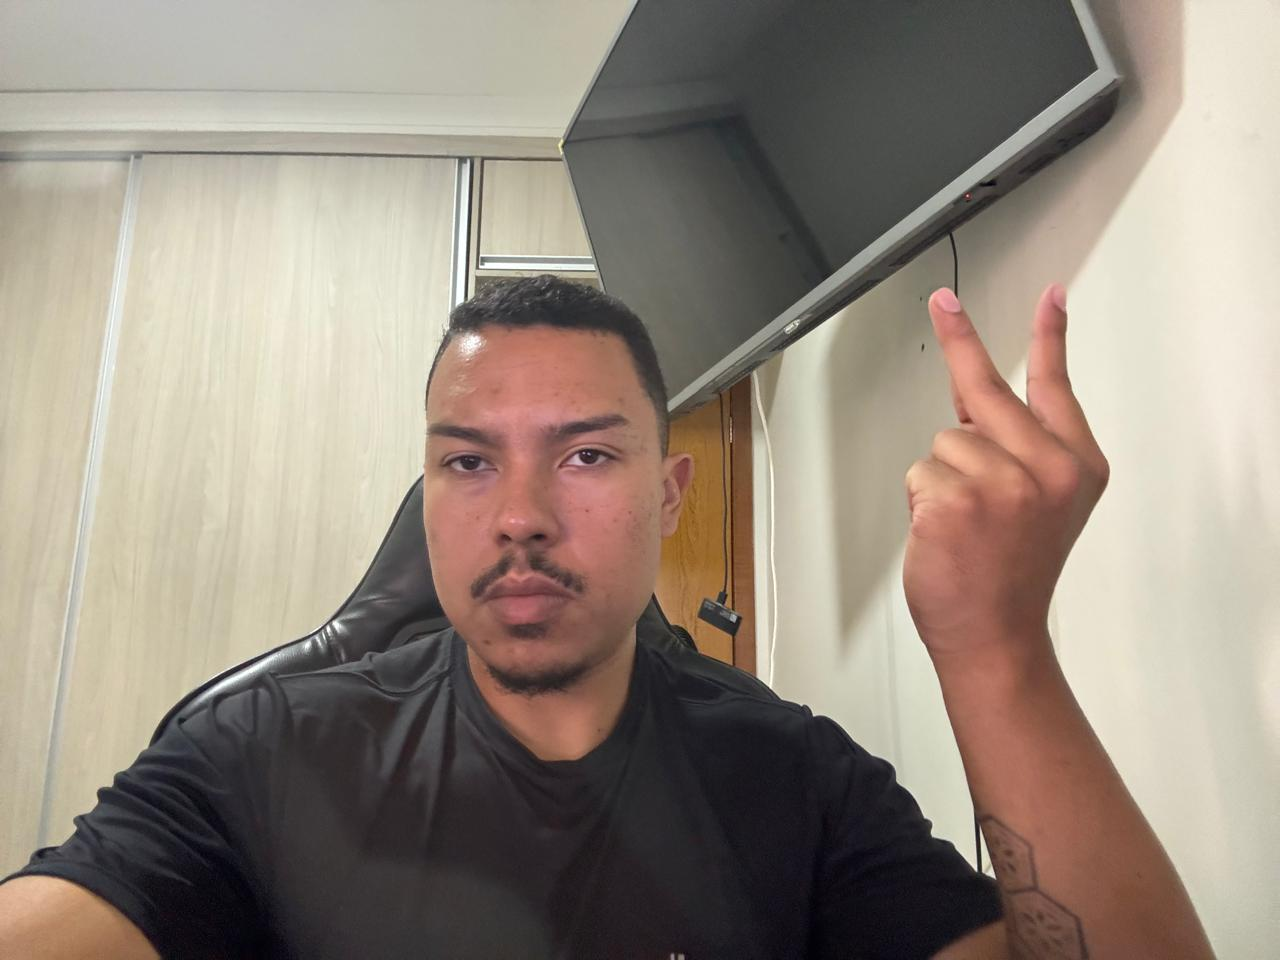h: (893, 272, 1121, 688)
